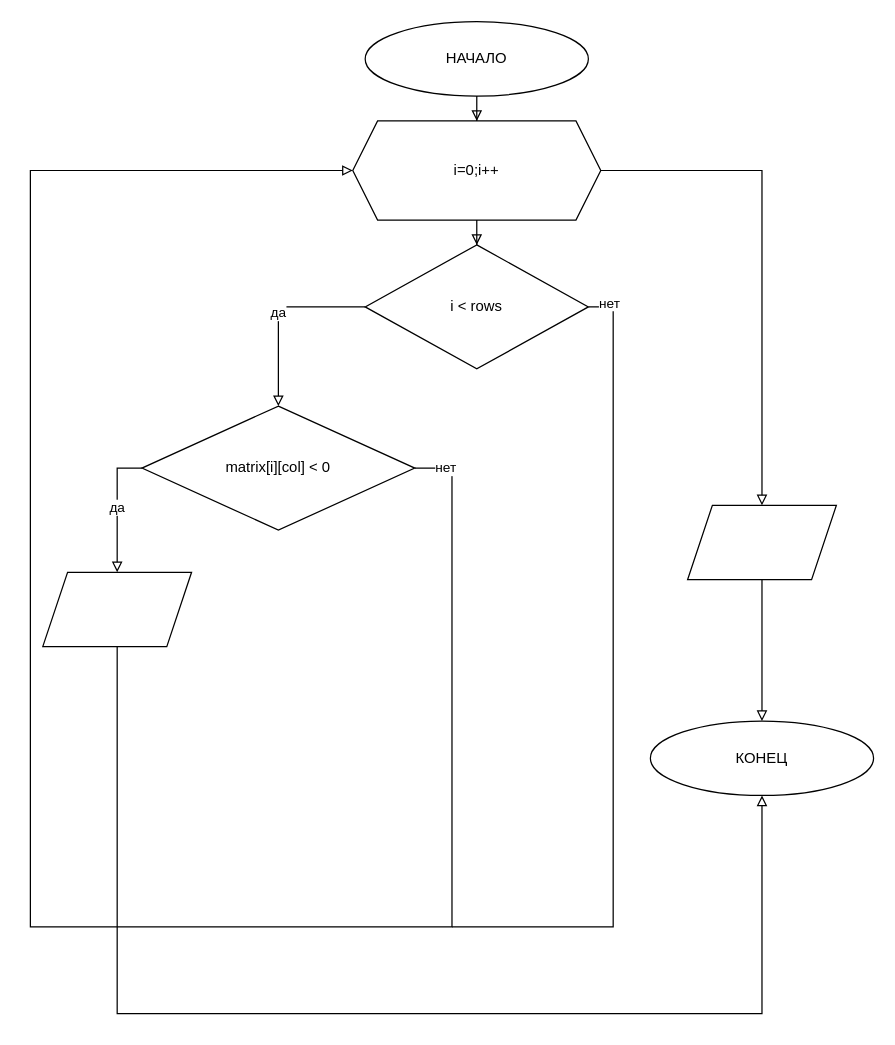
The diagram is 895 pixels wide and 1045 high, and some of its shapes have lost their labels. The box of each missing label's shape, as (x1, y1, x2, y2) in pixels:
false: (686, 504, 836, 580)
true: (42, 571, 192, 647)
